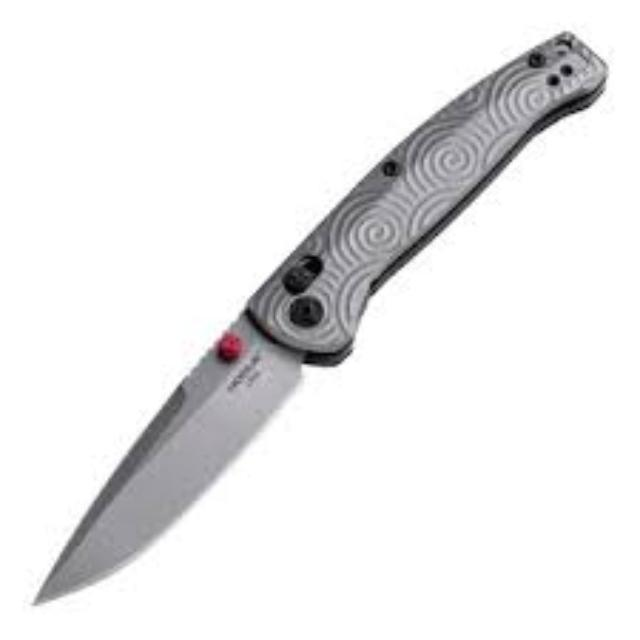Knife: (29, 26, 609, 606)
